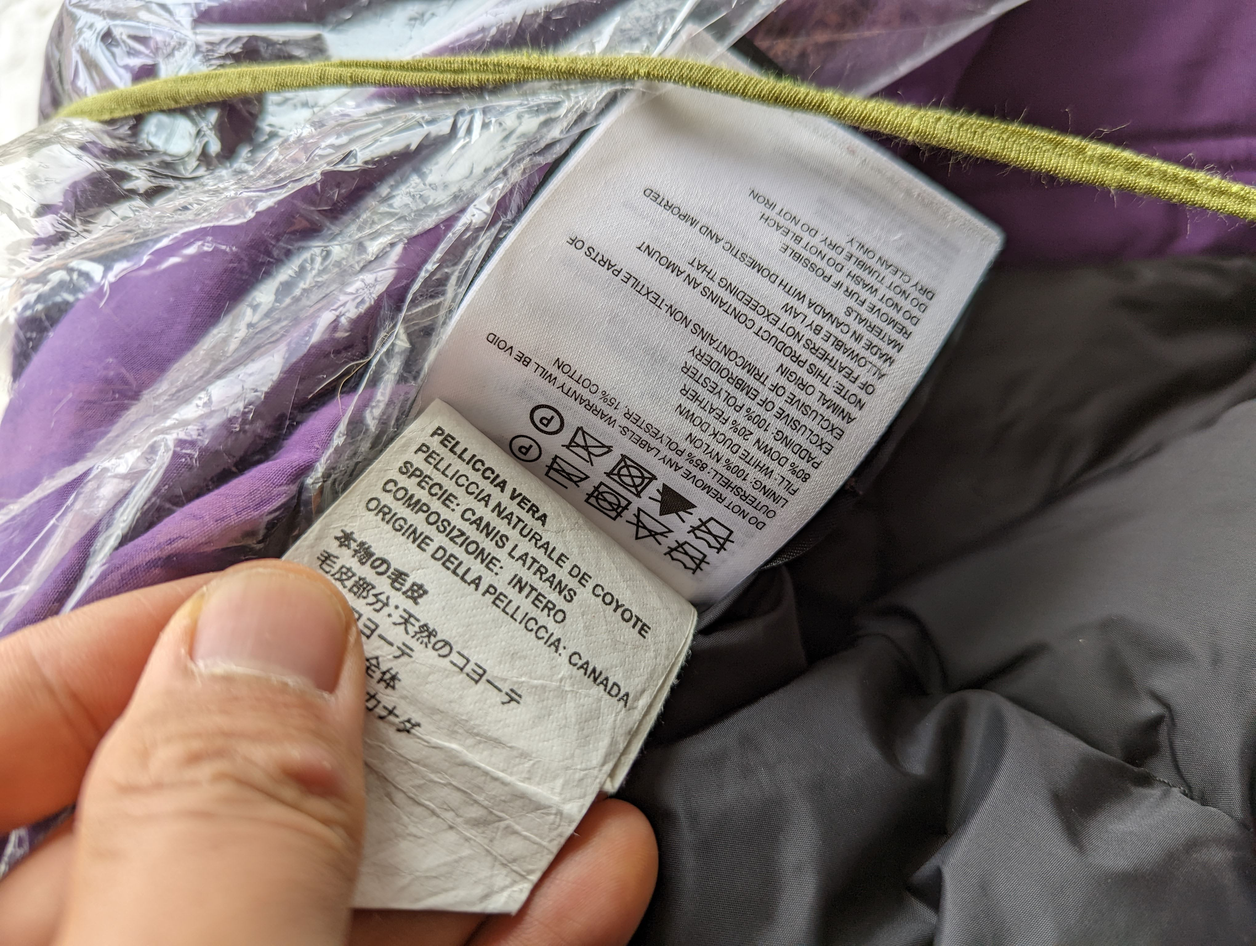ER_dry_clean_chemical: (529, 400, 568, 437), (507, 432, 544, 465)
ER_no_bleach: (649, 481, 699, 522), (625, 505, 672, 547)
ER_no_iron: (563, 423, 618, 463), (544, 451, 591, 490)
ER_no_tumble_dry: (606, 452, 659, 496), (582, 480, 634, 521)
ER_no_wash: (688, 513, 741, 556), (661, 538, 709, 577)
